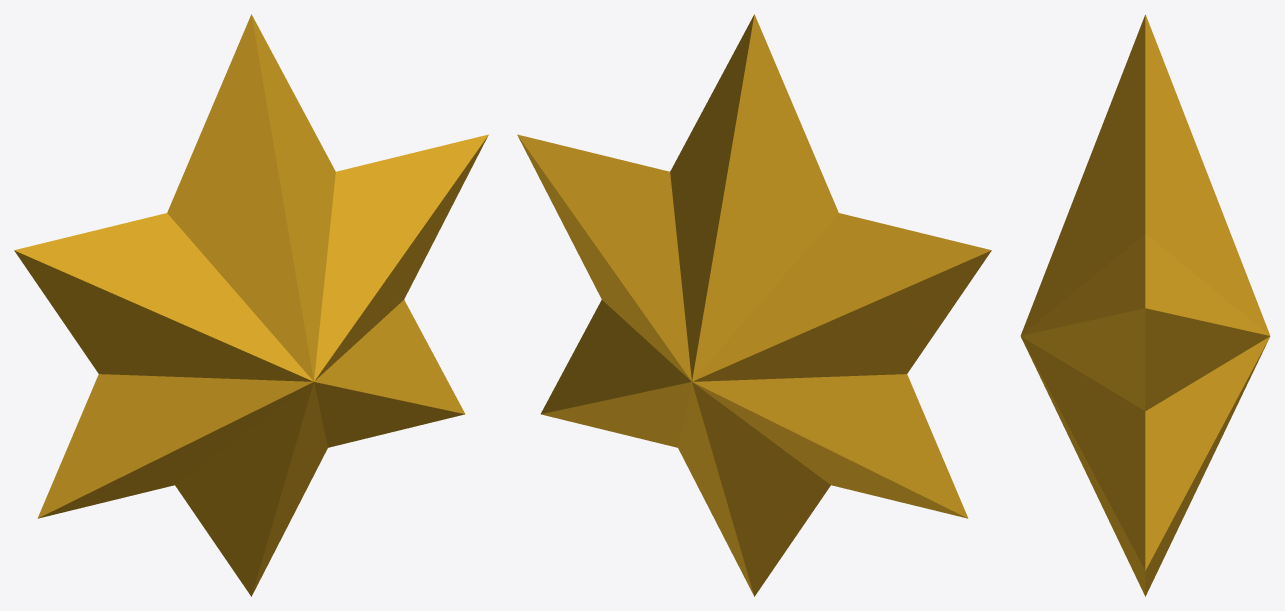
Rendered from Proto_Star_01.fbx.
3 renders of one model, left to right at view 1: azimuth 30°, elevation 25°; view 2: azimuth 150°, elevation 25°; view 3: azimuth 270°, elevation 25°, orthographic.
Parts seen in each view (by area): view 1: Proto_Star_01; view 2: Proto_Star_01; view 3: Proto_Star_01.
Part boxes in pixels (x1,y1,x2,y2): Proto_Star_01: (14,14,488,596); Proto_Star_01: (517,14,991,596); Proto_Star_01: (1020,14,1270,596).
Size of the model in its own units: 0.3584 by 0.4203 by 0.1634.
